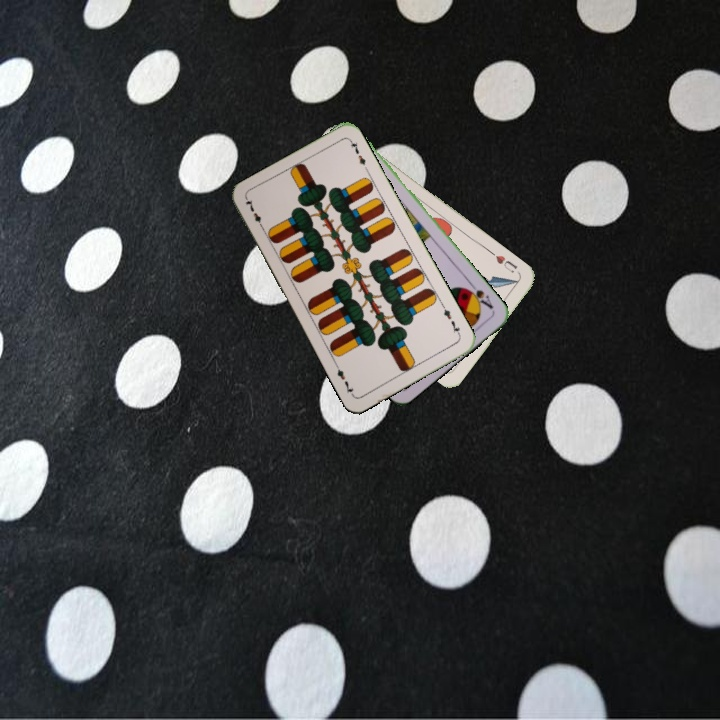E7: (438, 301, 463, 339), (242, 195, 267, 233)
HU: (488, 248, 520, 275)
SA: (461, 279, 496, 312)
